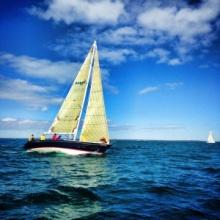fanchuan: (19, 38, 128, 156), (203, 118, 220, 149)
